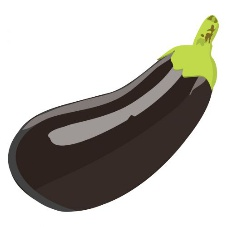eggplant: (8, 49, 213, 214)
